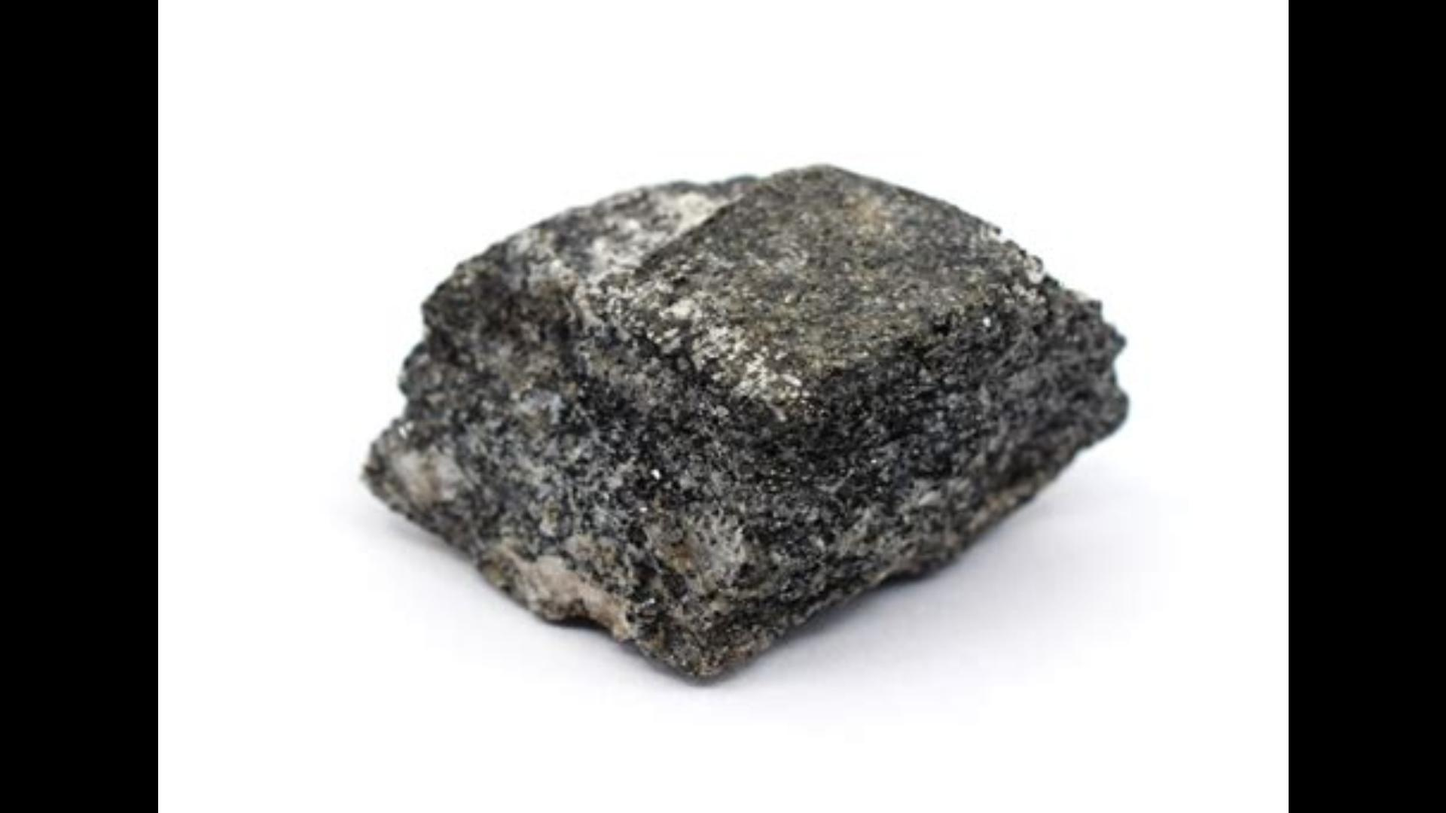rock: (365, 167, 1119, 675)
